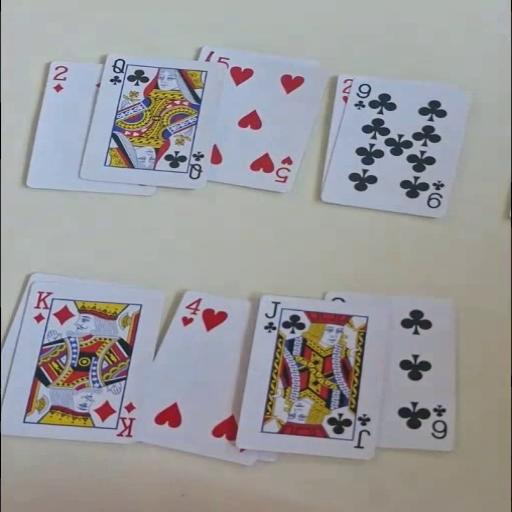2: (50, 63, 68, 93)
4: (178, 296, 203, 328)
5: (272, 154, 295, 184)
6: (428, 402, 448, 440)
9: (424, 179, 446, 209), (351, 81, 373, 110), (342, 78, 354, 106)
J: (351, 412, 373, 450), (260, 299, 282, 334)
K: (113, 399, 138, 438), (30, 289, 54, 325)
Q: (186, 149, 206, 181), (106, 56, 126, 86)
